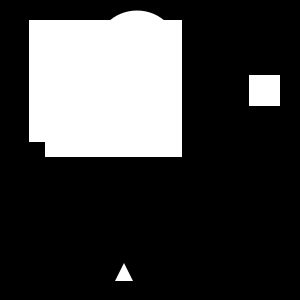circle: (45, 20, 182, 157), (29, 20, 151, 142), (249, 75, 280, 106)
rectangle: (94, 11, 180, 96)
triangle: (115, 263, 133, 281)
